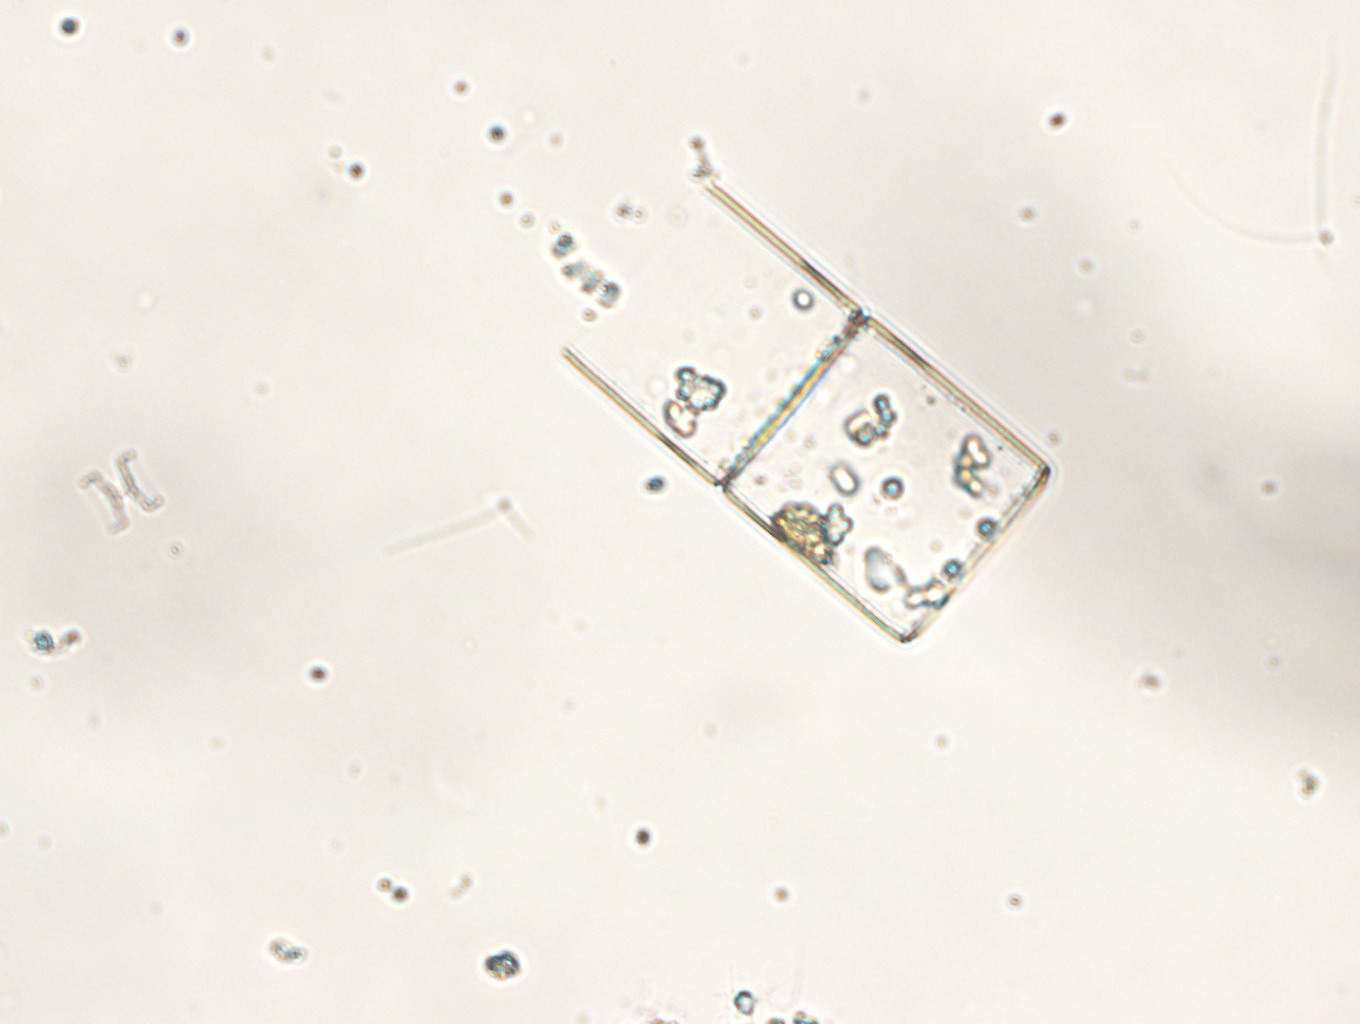guinardia flaccida: (559, 181, 1053, 648)
